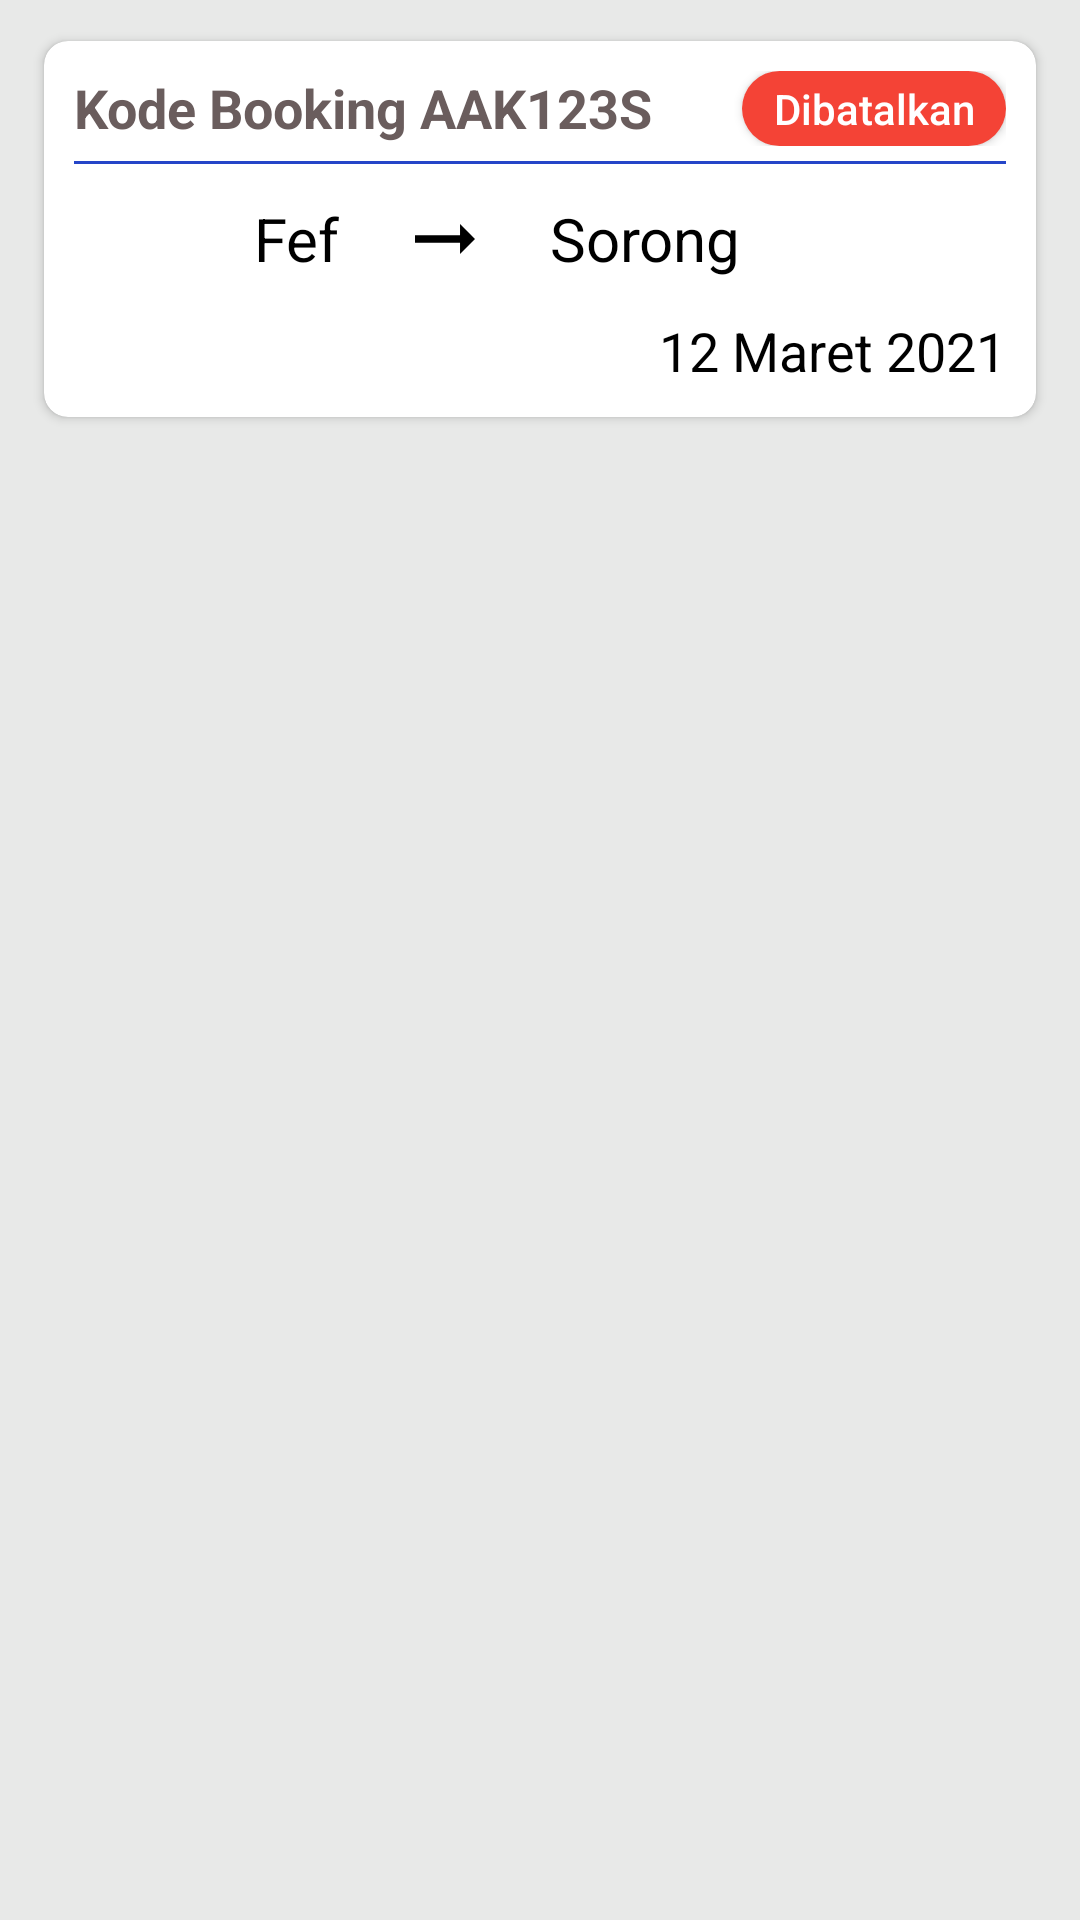

Named icons in this screenshot (1080*1920) and their bounding boxes, (x1, y1, x2, y2):
arah: (415, 224, 475, 254)
